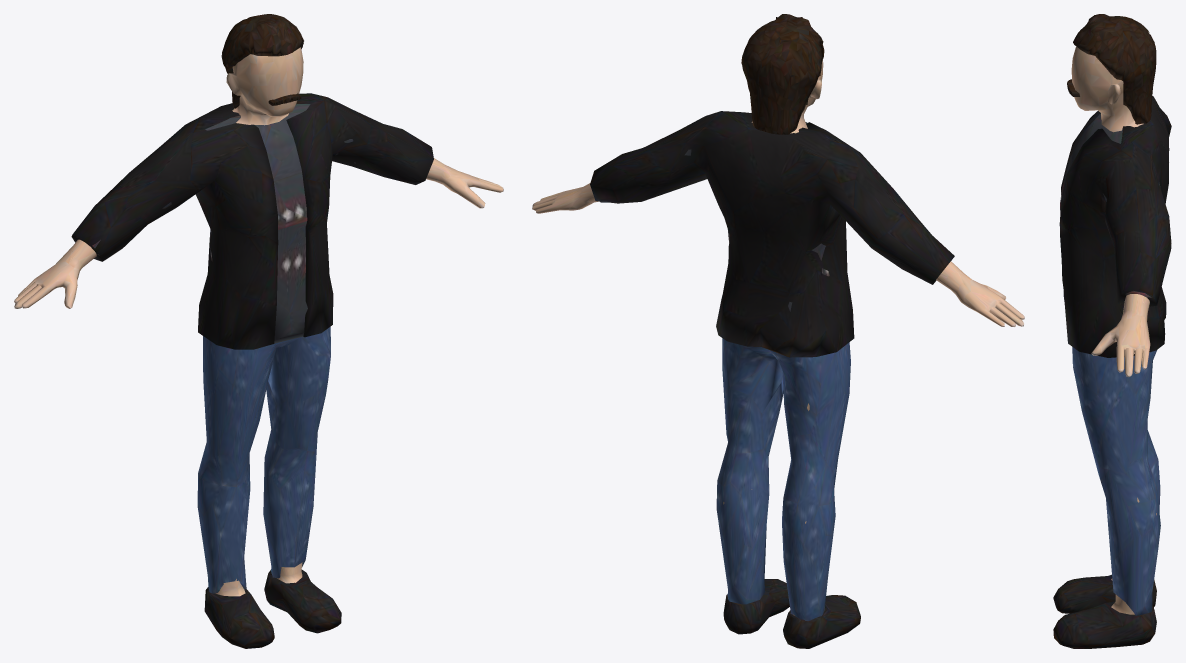
Rendered from npc_x_man1.glb.
3 renders of one model, left to right at view 1: azimuth 30°, elevation 25°; view 2: azimuth 150°, elevation 25°; view 3: azimuth 270°, elevation 25°, orthographic.
Visible parts, largest first — view 1: Human; view 2: Human; view 3: Human.
Boxes of the visible parts, x1,y1,x2,y2 form: Human: [14, 14, 503, 648]; Human: [532, 14, 1024, 648]; Human: [1053, 14, 1171, 648].
Size of the model in its own units: 1.54 by 1.82 by 0.3218.
1 material, 1 textured.
